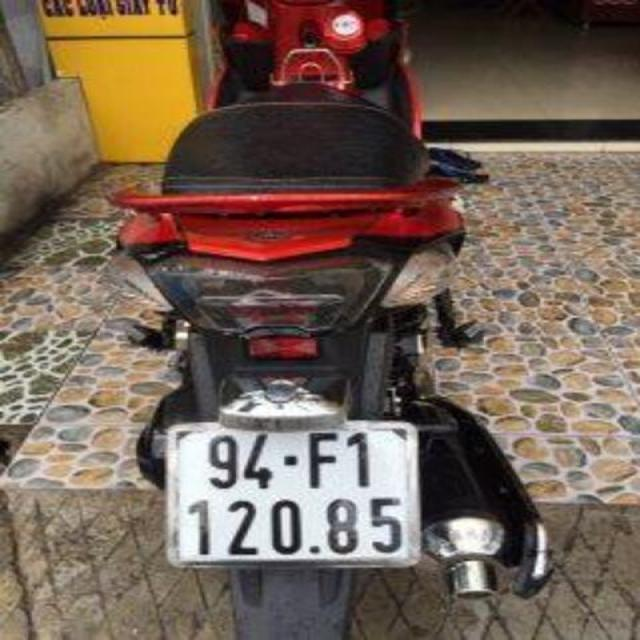motorcycle: (91, 0, 552, 640)
plate: (157, 412, 426, 577)
